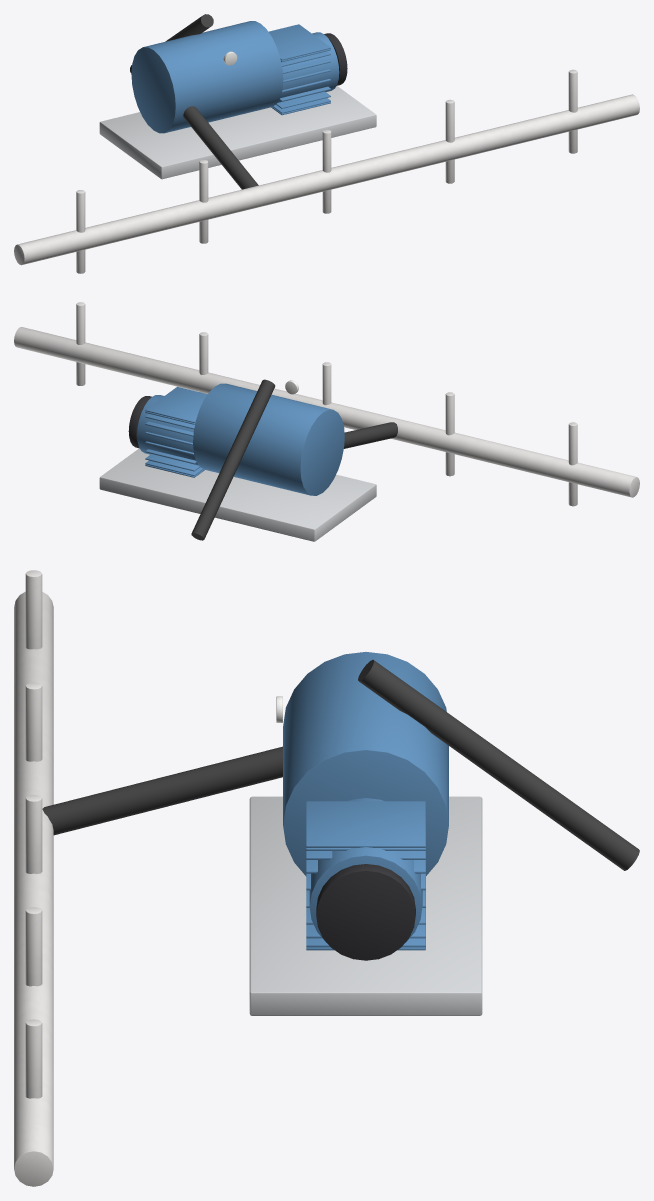
File: TER-REB-002_anim.glb
3 views of the same model, one above another, from view 1: azimuth 30°, elevation 25°; view 2: azimuth 150°, elevation 25°; view 3: azimuth 270°, elevation 25° (orthographic). The views are drawn at different scales.
Parts seen in each view (by area): view 1: TER-REB-002_anim2, TER-REB-002_anim1, TER-REB-002_anim0; view 2: TER-REB-002_anim2, TER-REB-002_anim1, TER-REB-002_anim0; view 3: TER-REB-002_anim2, TER-REB-002_anim1, TER-REB-002_anim0.
Boxes of the visible parts, box(x1,y1,x2,y2) form: TER-REB-002_anim2: box(14, 14, 639, 273); TER-REB-002_anim1: box(131, 21, 339, 133); TER-REB-002_anim0: box(324, 33, 347, 85); TER-REB-002_anim2: box(14, 302, 639, 541); TER-REB-002_anim1: box(137, 380, 344, 495); TER-REB-002_anim0: box(128, 396, 151, 448); TER-REB-002_anim2: box(14, 570, 639, 1186); TER-REB-002_anim1: box(276, 652, 448, 950); TER-REB-002_anim0: box(316, 864, 415, 960).
Bounding box in the file's own units: 4 × 0.8615 × 1.88.
Materials: 6 (1 with a texture image).
